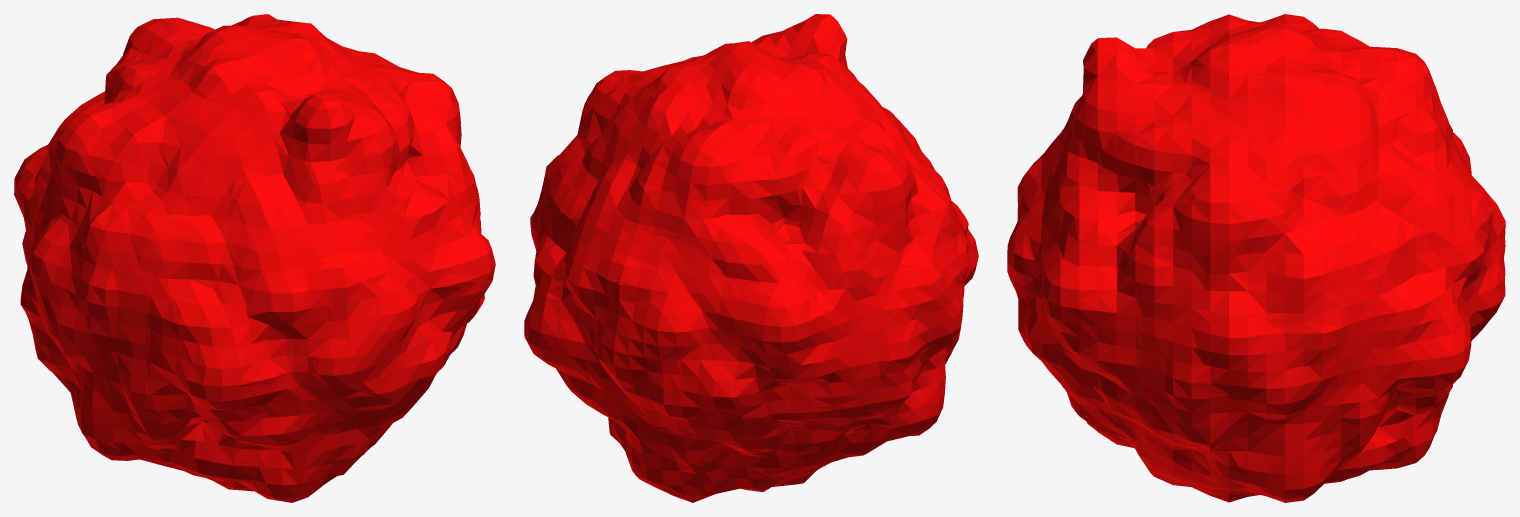
Rendered from dps_coarse.dae.
The picture shows the model from 3 angles, left to right: view 1: azimuth 30°, elevation 25°; view 2: azimuth 150°, elevation 25°; view 3: azimuth 270°, elevation 25°; orthographic projection. The views are drawn at different scales.
Visible parts, largest first — view 1: dps; view 2: dps; view 3: dps.
Boxes of the visible parts, x1,y1,x2,y2 form: dps: (14, 14, 495, 502); dps: (524, 14, 978, 502); dps: (1007, 14, 1505, 502).
Bounding box in the file's own units: 94.25 × 94.28 × 94.2.
